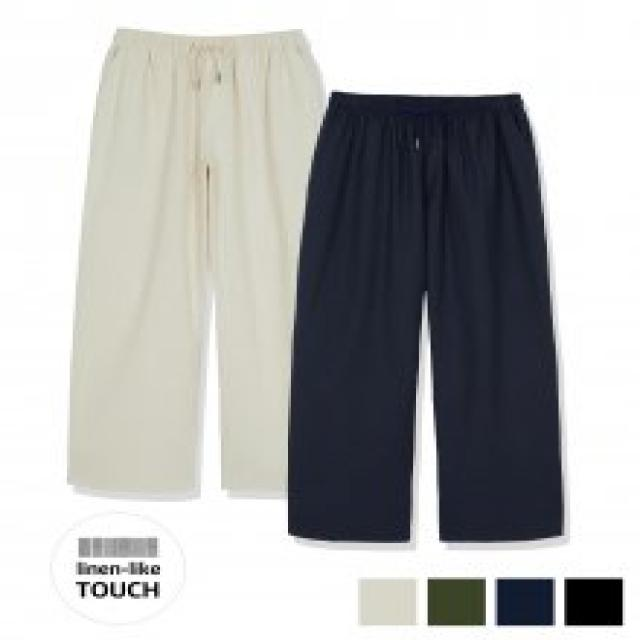long-pants: (286, 88, 565, 546), (62, 29, 330, 504)
